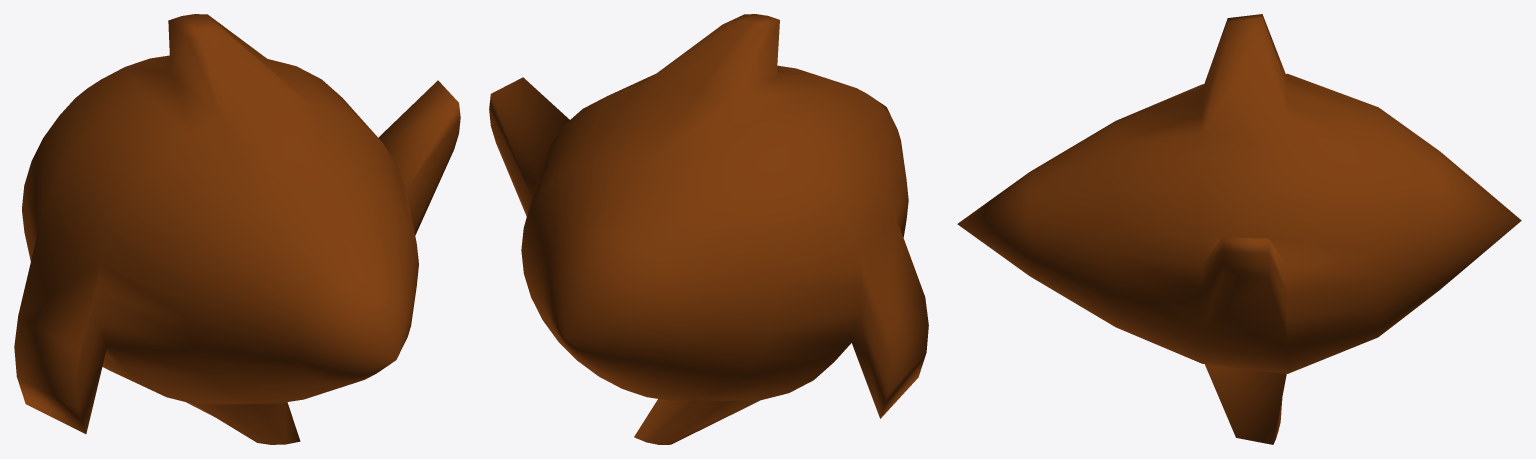
The model's file is HumanTypeRocketMan_ballchild.glb.
3 views of the same model, side by side, from view 1: azimuth 30°, elevation 25°; view 2: azimuth 150°, elevation 25°; view 3: azimuth 270°, elevation 25° (orthographic). The views are drawn at different scales.
Visible parts, largest first — view 1: tandoRocketReal; view 2: tandoRocketReal; view 3: tandoRocketReal.
Boxes of the visible parts, x1,y1,x2,y2 form: tandoRocketReal: [14, 14, 460, 444]; tandoRocketReal: [489, 14, 928, 444]; tandoRocketReal: [957, 14, 1521, 444].
Size of the model in its own units: 0.6987 by 0.7088 by 0.9526.
